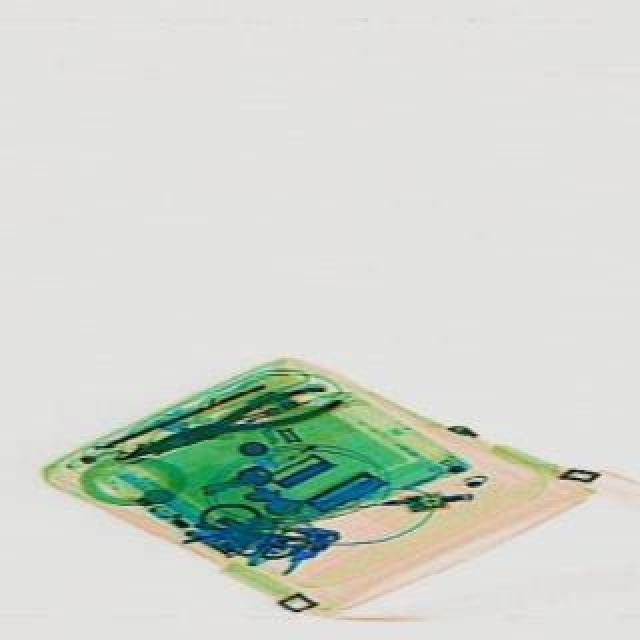wrench: (118, 378, 348, 470)
